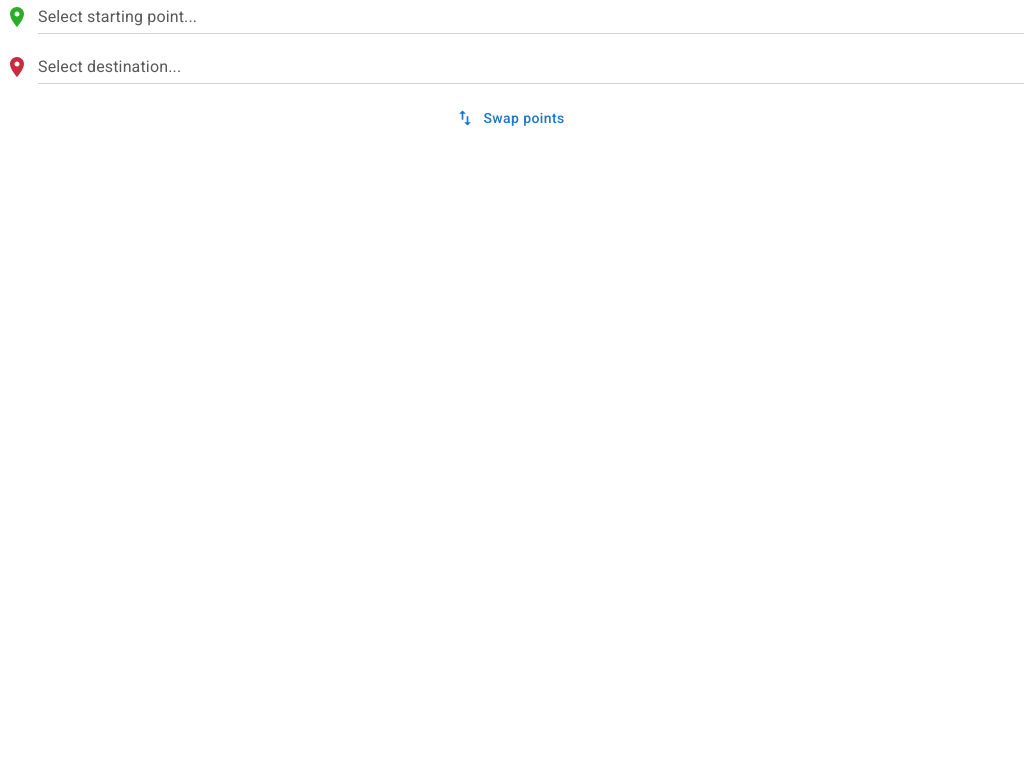
Test case: <SourceTargetBox /> › source dialog › should close upon Cross
This screenshot has width=1024, height=768.
Click the button named "Select starting point" at (17, 17), box x1=0 y1=0 x2=34 y2=34
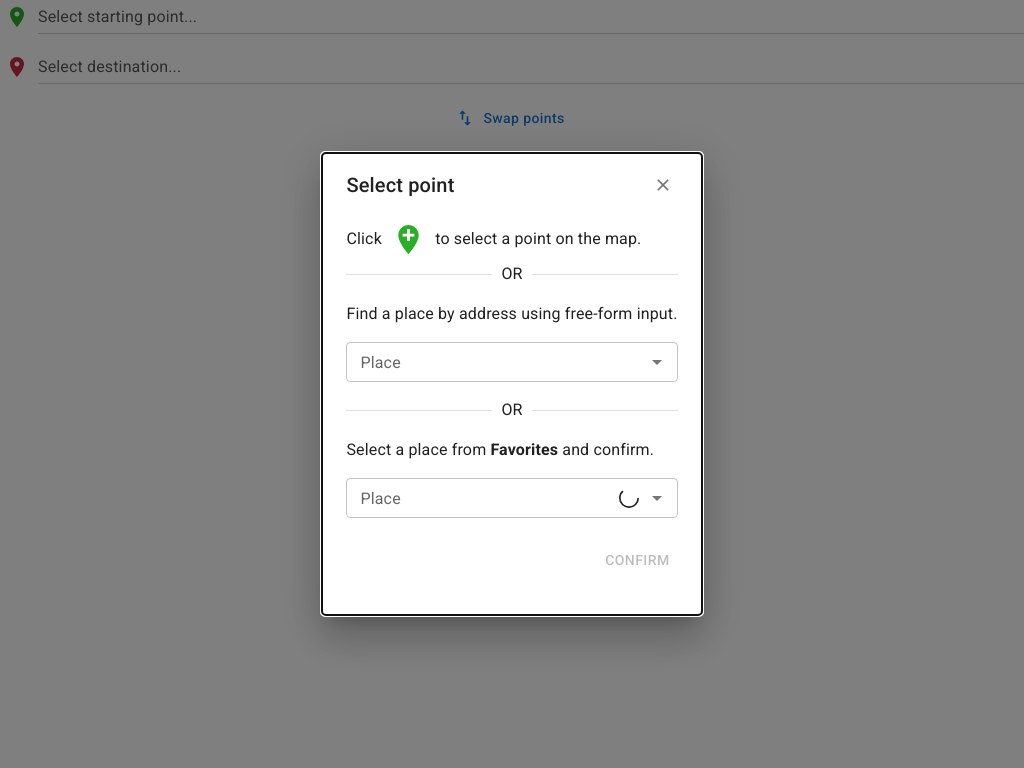
Click the button named "Hide dialog" at (662, 185), box x1=648 y1=170 x2=678 y2=200
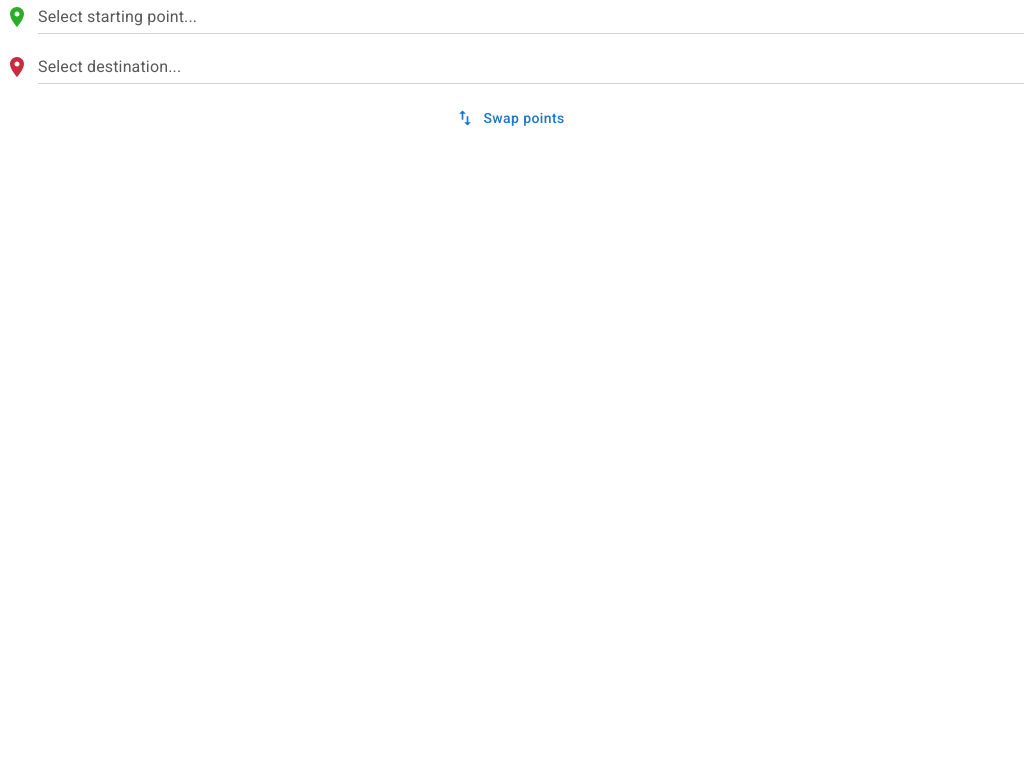
Expected: the dialog is gone
